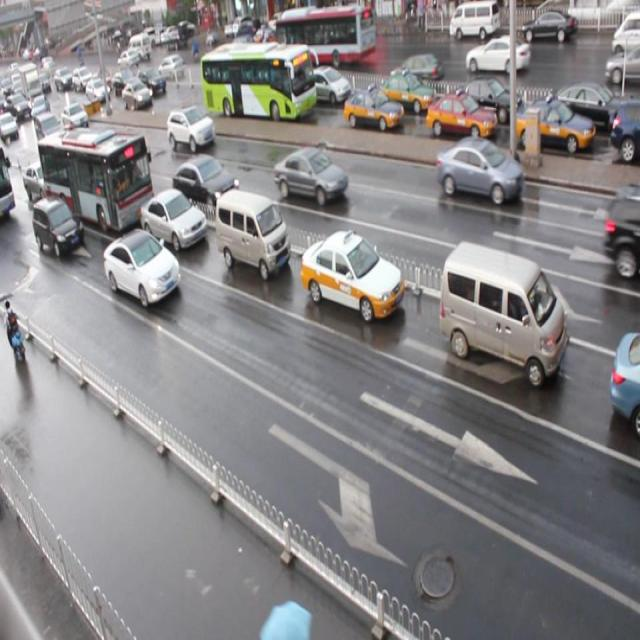car: (300, 229, 403, 321), (436, 136, 524, 210), (102, 229, 180, 309), (514, 101, 594, 160), (274, 148, 349, 209), (541, 79, 621, 134), (140, 188, 208, 252), (173, 154, 241, 212), (426, 94, 495, 144), (608, 330, 640, 432), (34, 195, 83, 259), (454, 78, 520, 125), (343, 88, 402, 132), (376, 72, 435, 115), (168, 106, 216, 155), (302, 66, 350, 107), (610, 99, 640, 161), (22, 160, 62, 204), (122, 82, 154, 109), (62, 105, 91, 132), (139, 67, 166, 94), (113, 69, 137, 96)
truck: (438, 240, 568, 389), (215, 188, 290, 284)
van: (38, 127, 154, 235), (202, 42, 316, 125)
